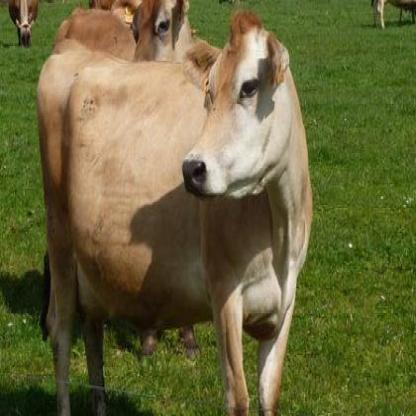cow: (37, 26, 311, 416), (8, 0, 39, 46)
